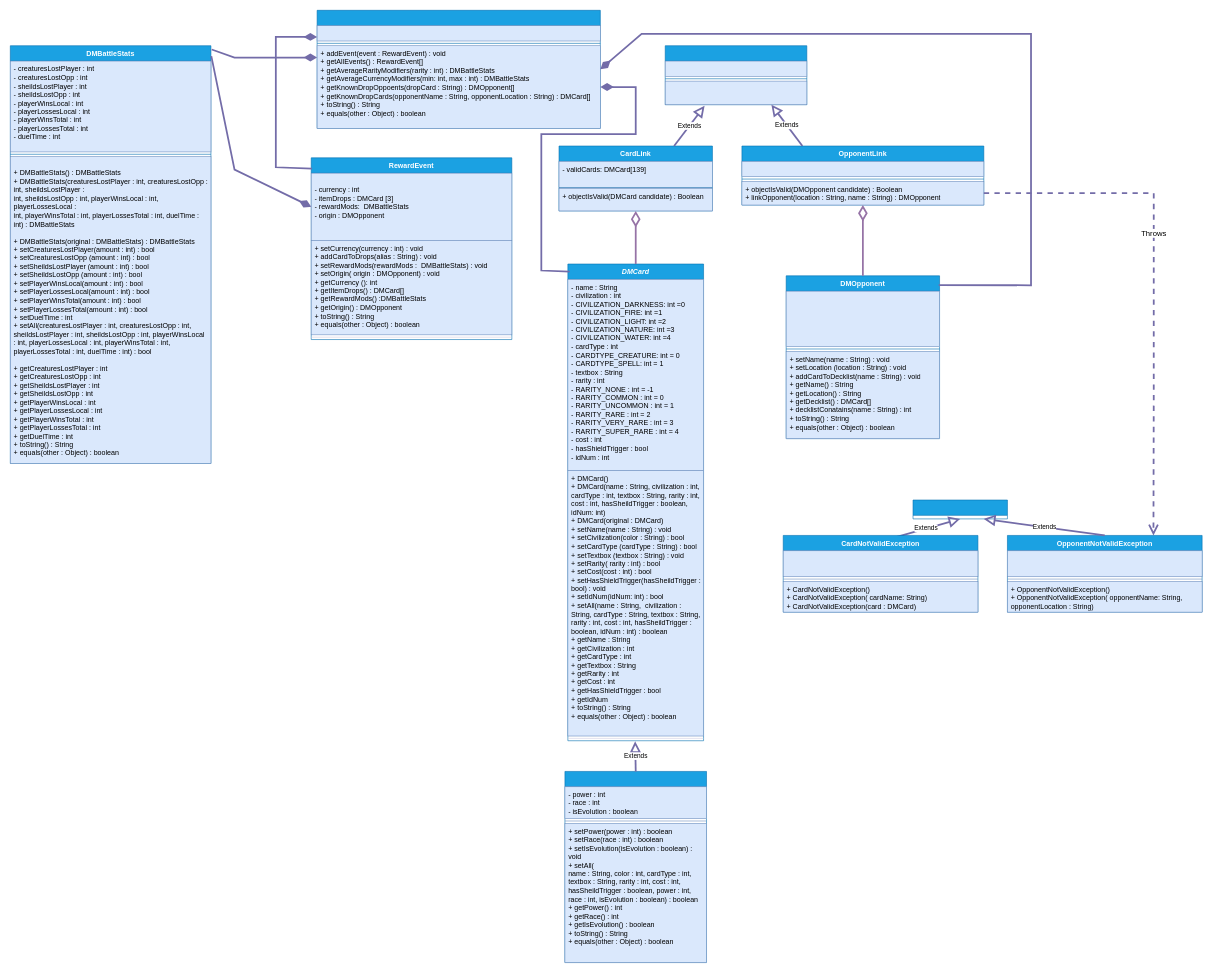
Some shapes in this 1212 by 975 pixel diagram are drawn without their labels. The box of each missing label's shape, as (x1, y1, x2, y2) in pixels:
+ allEvents : ArrayList<RewardEvent>: (317, 25, 600, 41)
- createValidArray() : void + objectIsValid(Object candidate) : Boolean: (665, 81, 807, 105)
- DEFAULT_MESSAGE : String = "Card not found in database.": (783, 550, 978, 577)
- DEFAULT_MESSAGE : String = "Opponent not found in database.": (1007, 550, 1202, 577)
- knownOpponents : DMOpponent[]: (741, 161, 984, 177)
- name : String - location : String - decklist : DMCard[40]: (786, 291, 940, 347)
Database: (317, 10, 600, 128)
DMCreature: (564, 771, 707, 963)
Exception: (912, 499, 1007, 519)
ValidLink: (665, 45, 807, 105)
